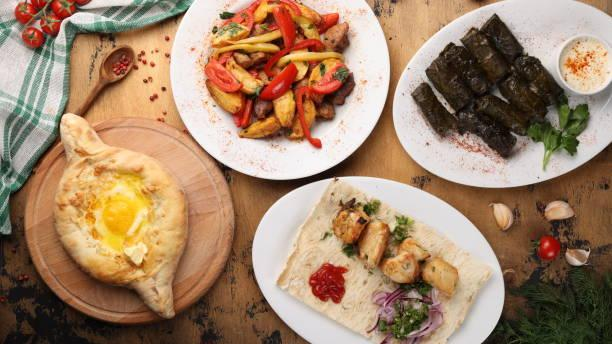Braised Crucian Carp: (27, 116, 233, 323), (249, 174, 501, 342), (391, 1, 611, 192), (170, 2, 385, 183)
